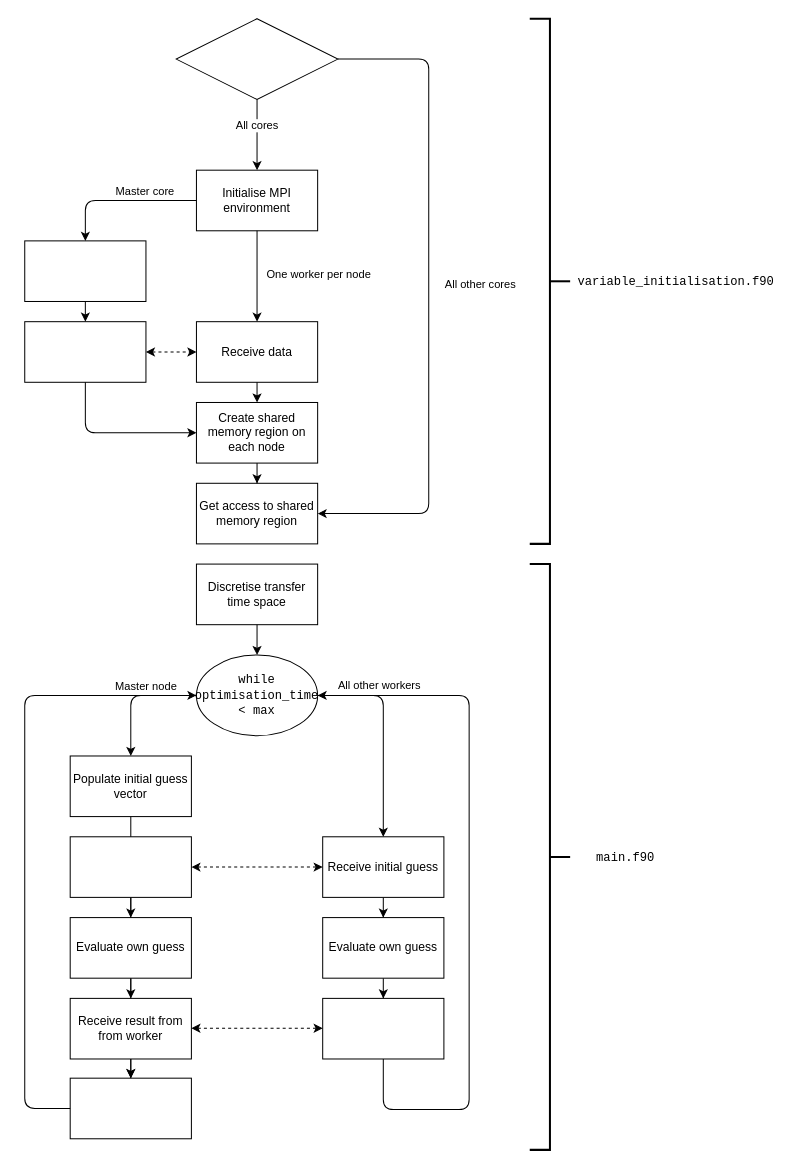
Some shapes in this 792 by 1168 pixel diagram are drawn without their labels. Each missing label, with the box of its shape:
Compute guess update: (69, 1077, 191, 1139)
Read reference states,: (24, 240, 146, 301)
Send data: (24, 321, 146, 382)
Send to master: (322, 997, 444, 1059)
Send to workers: (69, 836, 191, 897)
Start: (175, 18, 338, 99)
